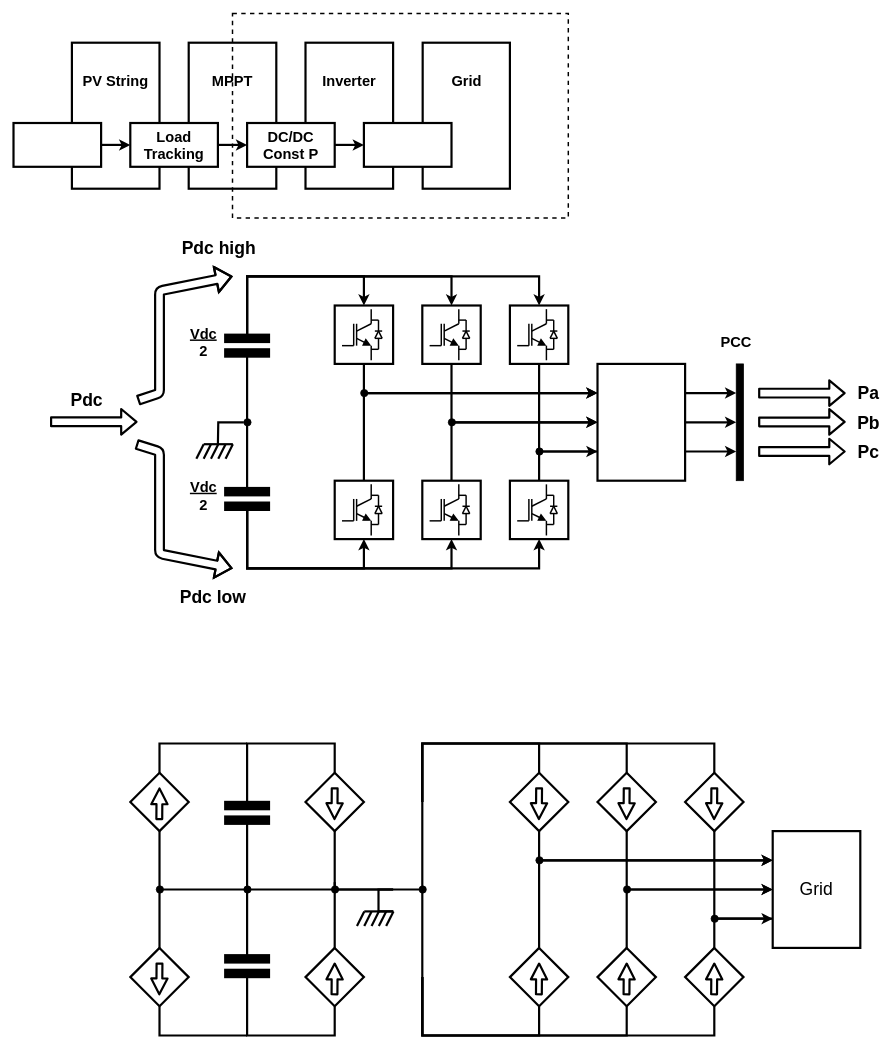
The diagram is 892 pixels wide and 1050 high, and some of its shapes have lost their labels. The shapes that lost their labels are listed below. From the top down, each one's centre as x and y in pixels, then its label:
At (x=57, y=145): "Irradiance P ref".
At (x=407, y=145): "DC/AC Const P".
At (x=641, y=421): "Filter".
